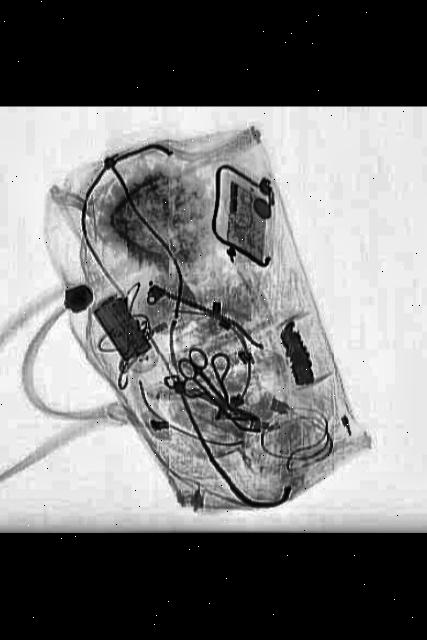Scissors: (166, 348, 248, 421)
